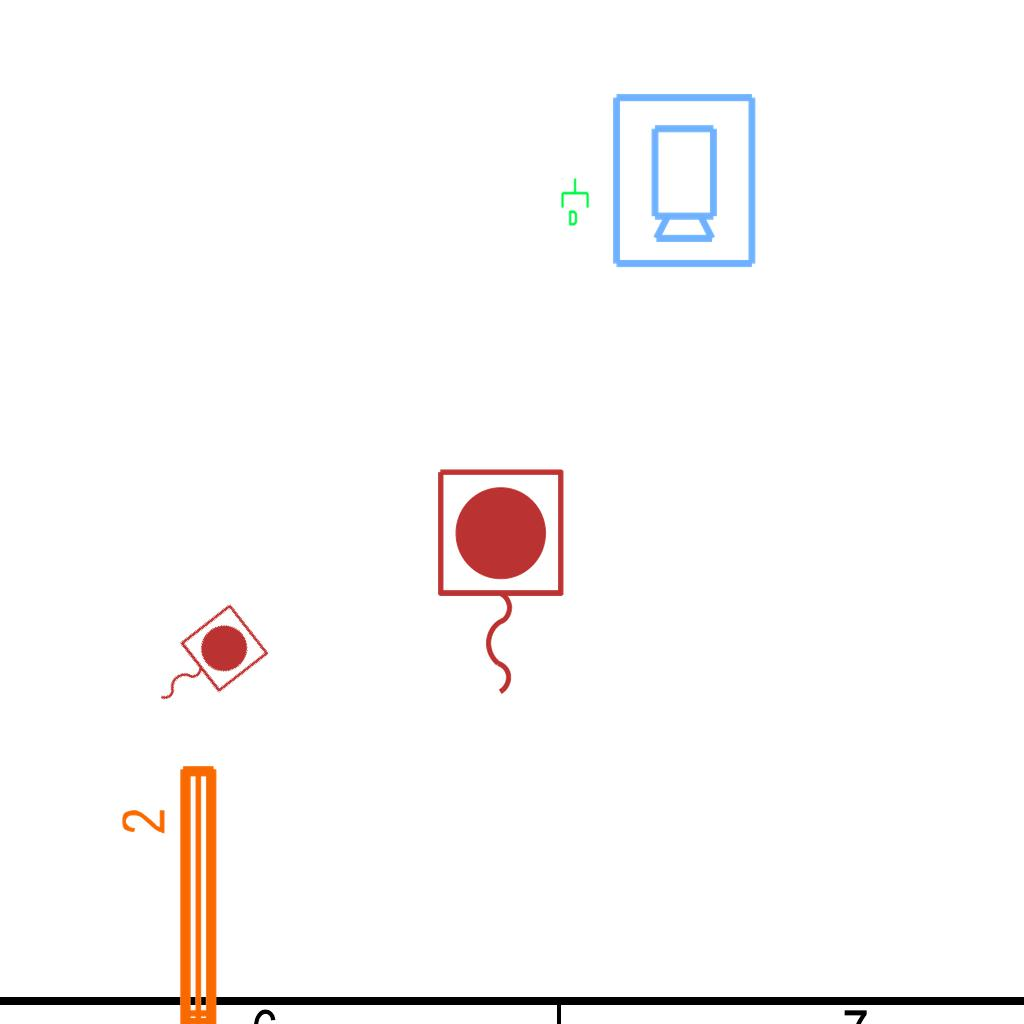Ambulanz_Pendelleuchte_LED: (117, 757, 229, 1024)
Datenanschluss_einfach: (559, 177, 593, 227)
KFO_Kamera_mit_Festobjektiv: (606, 89, 760, 271)
Zugtaster: (427, 461, 571, 705), (133, 597, 275, 729)
